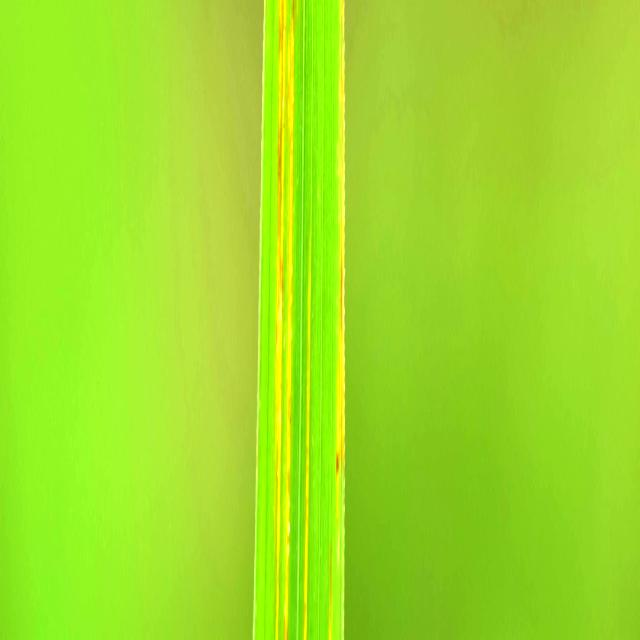BLS: (275, 0, 286, 638), (285, 0, 295, 637), (304, 202, 312, 638), (340, 0, 345, 467), (336, 364, 339, 517), (297, 0, 299, 14)
